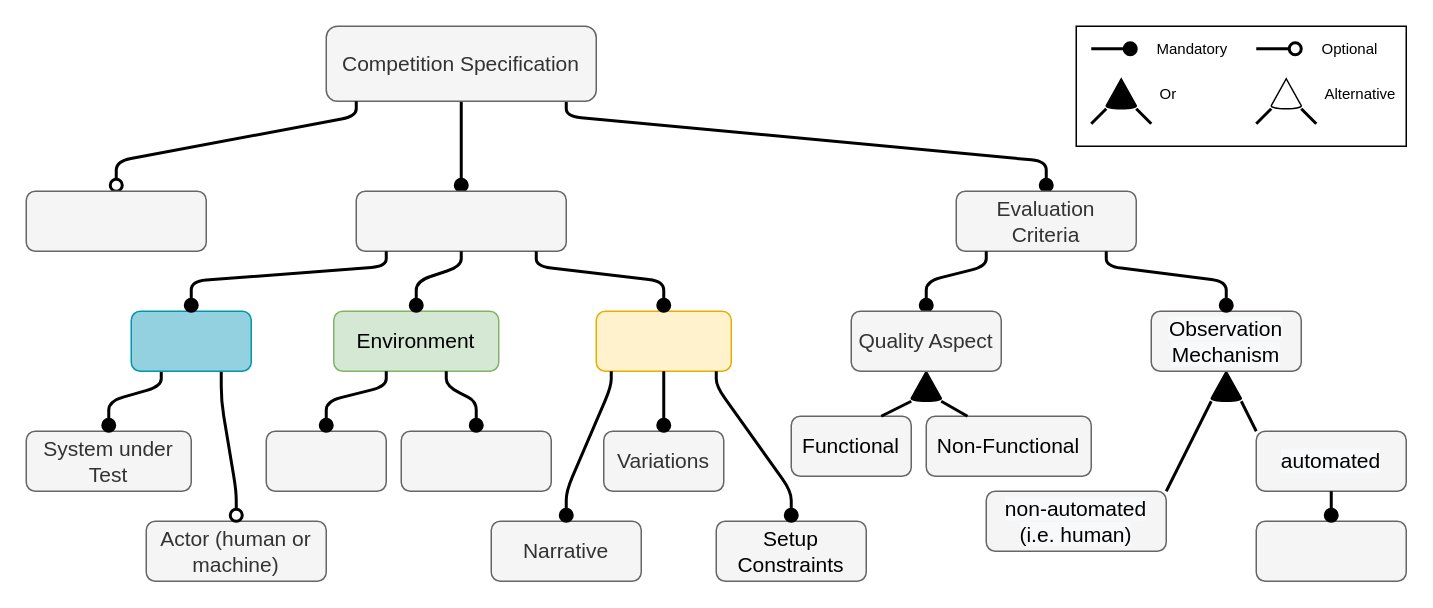
Image size: 1433x608. Some labels were removed from this diagram. The shapes that lost their labels are listed below. From the top down, each one's box as (x1, y1, x2, y2) in pixels, then its label:
(25, 190, 206, 251): Objective
(355, 190, 566, 251): Scenario Definition
(130, 310, 251, 371): Agent
(595, 310, 731, 371): Task
(265, 430, 386, 491): Objects
(400, 430, 551, 491): Workspace
(1255, 520, 1406, 581): data requirements
